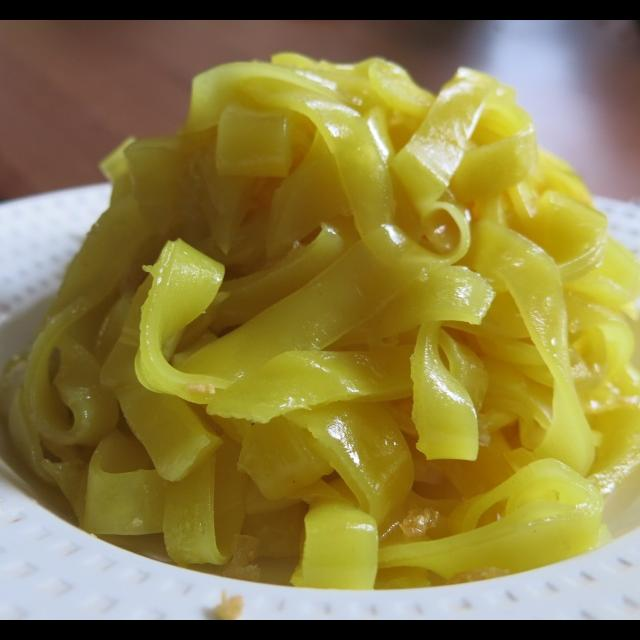noodles: (18, 49, 640, 558)
